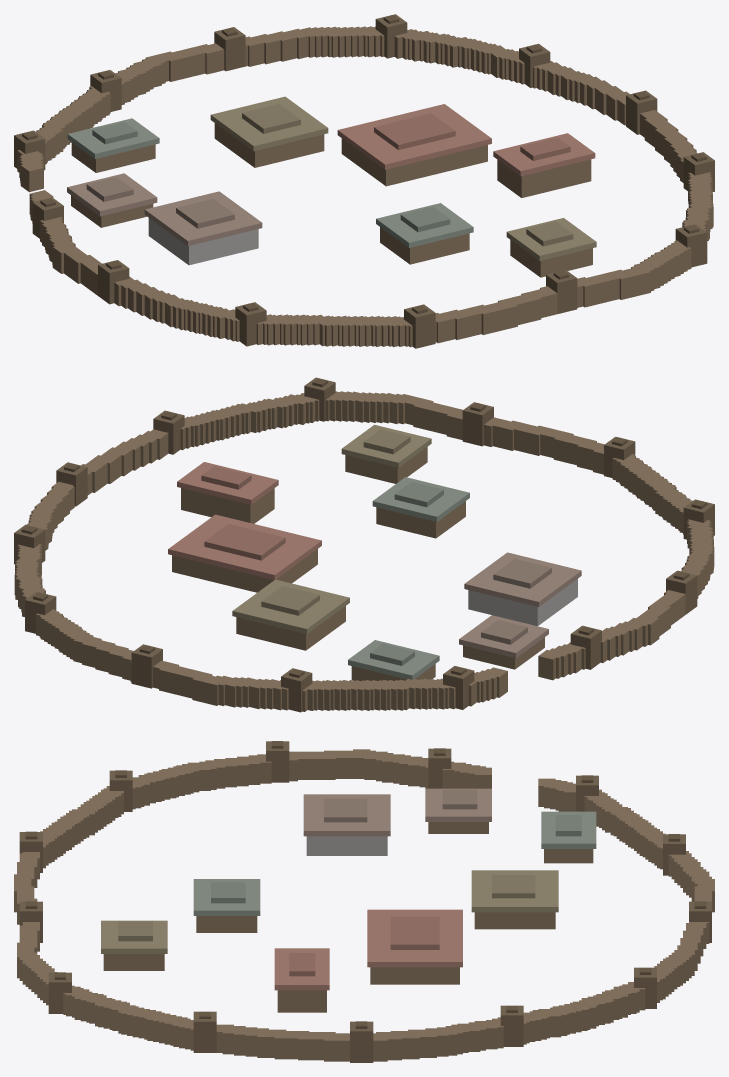
Rendered from ciudad_aldea_pescadores_1019_401_01.glb.
3 views of the same model, one above another, from view 1: azimuth 30°, elevation 25°; view 2: azimuth 150°, elevation 25°; view 3: azimuth 270°, elevation 25° (orthographic).
Parts seen in each view (by area): view 1: ciudad_aldea_pescadores_1019_401; view 2: ciudad_aldea_pescadores_1019_401; view 3: ciudad_aldea_pescadores_1019_401.
Part boxes in pixels (<box>): ciudad_aldea_pescadores_1019_401: <box>14,14,714,348</box>; ciudad_aldea_pescadores_1019_401: <box>14,377,714,712</box>; ciudad_aldea_pescadores_1019_401: <box>14,741,714,1062</box>.
Size of the model in its own units: 59.75 by 3.25 by 60.5.
